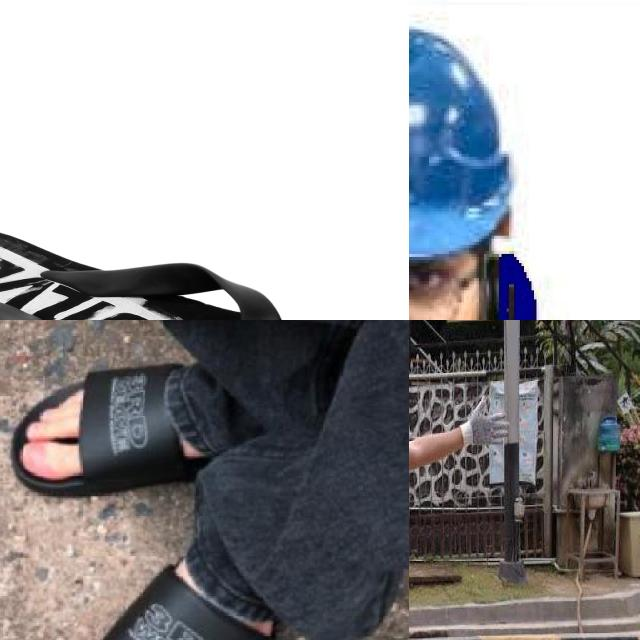Ear-protection: (409, 234, 598, 320)
Sandals: (0, 352, 269, 502), (0, 225, 401, 320), (38, 509, 300, 640)
head_helmet: (409, 11, 640, 320), (409, 17, 531, 266)
person: (409, 320, 520, 640)
